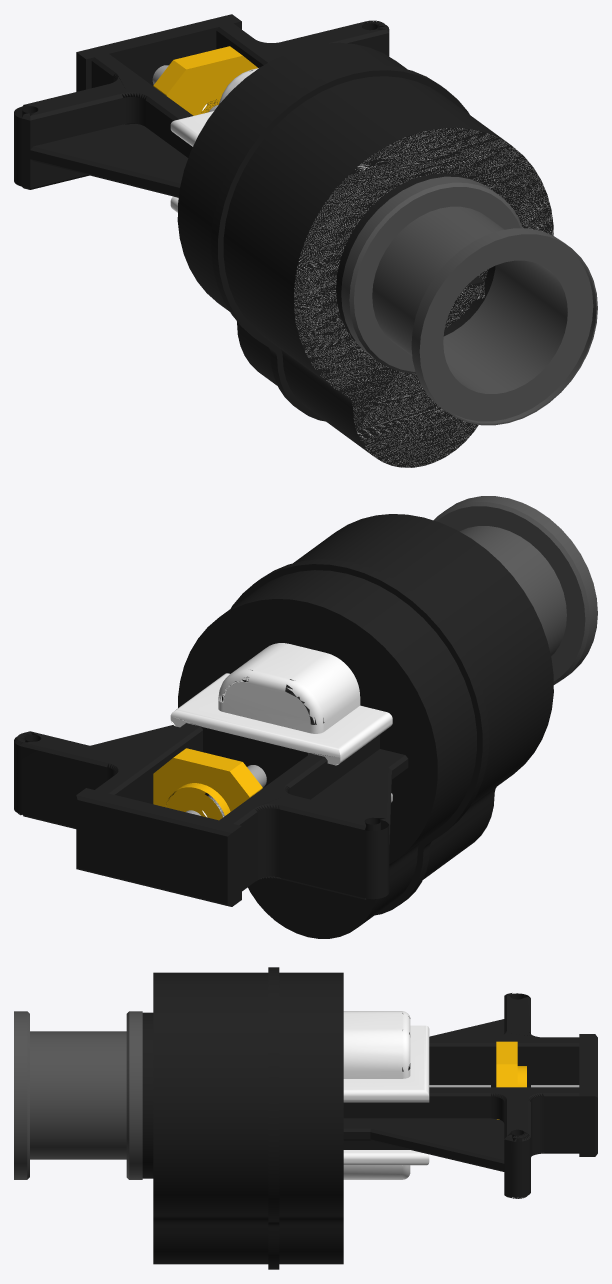
File: palm.dae
The picture shows the model from 3 angles, top to bottom: view 1: azimuth 30°, elevation 25°; view 2: azimuth 150°, elevation 25°; view 3: azimuth 270°, elevation 25°; orthographic projection. The views are drawn at different scales.
Parts seen in each view (by area): view 1: SketchUp (×9), 组_2 (×5); view 2: SketchUp (×7), 组_2 (×2); view 3: SketchUp (×10), 组_2 (×3).
Part boxes in pixels (x1=…): SketchUp (×9): x1=14, y1=14, x2=553, y2=467; 组_2 (×5): x1=341, y1=176, x2=597, y2=425; SketchUp (×7): x1=14, y1=514, x2=553, y2=938; 组_2 (×2): x1=433, y1=496, x2=597, y2=684; SketchUp (×10): x1=142, y1=967, x2=597, y2=1269; 组_2 (×3): x1=14, y1=1011, x2=142, y2=1179.
Size of the model in its own units: 5.16 by 8.58 by 4.61.
